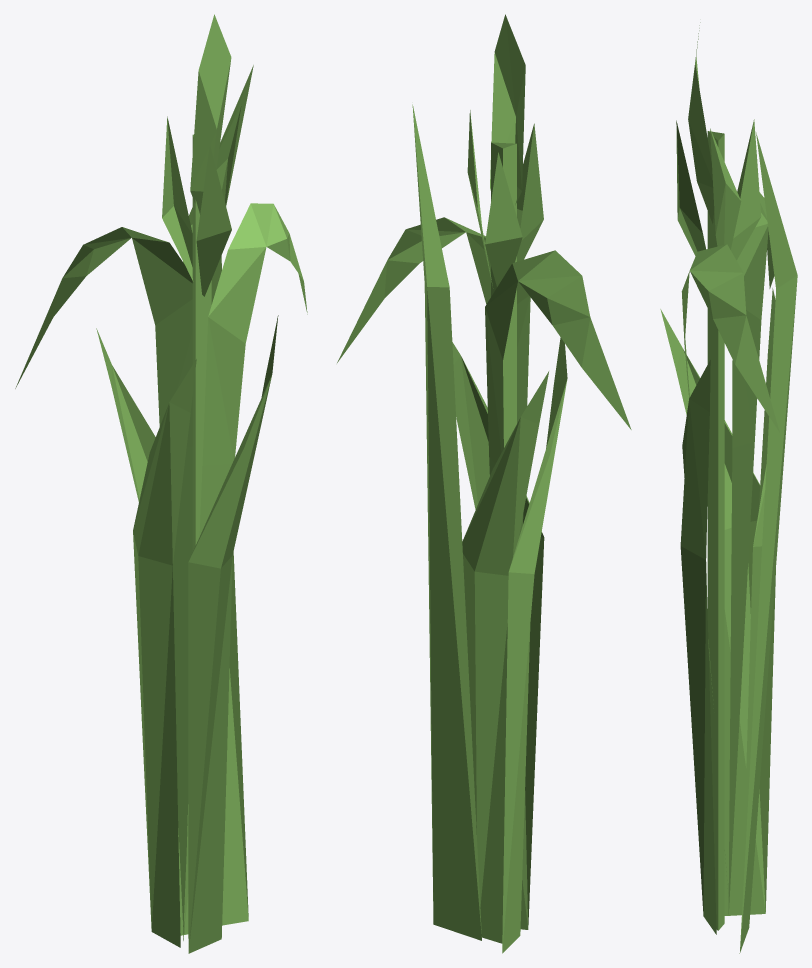
The model's file is Sugarcane_2.fbx.
3 renders of one model, left to right at view 1: azimuth 30°, elevation 25°; view 2: azimuth 150°, elevation 25°; view 3: azimuth 270°, elevation 25°, orthographic. The views are drawn at different scales.
Visible parts, largest first — view 1: Sugeracne_3; view 2: Sugeracne_3; view 3: Sugeracne_3.
Part boxes in pixels (bbox=[...]): Sugeracne_3: bbox=[15, 14, 307, 953]; Sugeracne_3: bbox=[337, 14, 631, 953]; Sugeracne_3: bbox=[660, 22, 797, 953].
Size of the model in its own units: 8.66 by 25.92 by 3.53.
